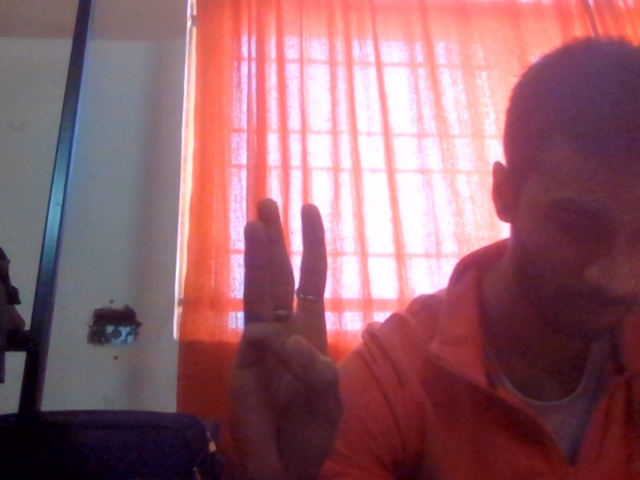W: (198, 168, 365, 480)
